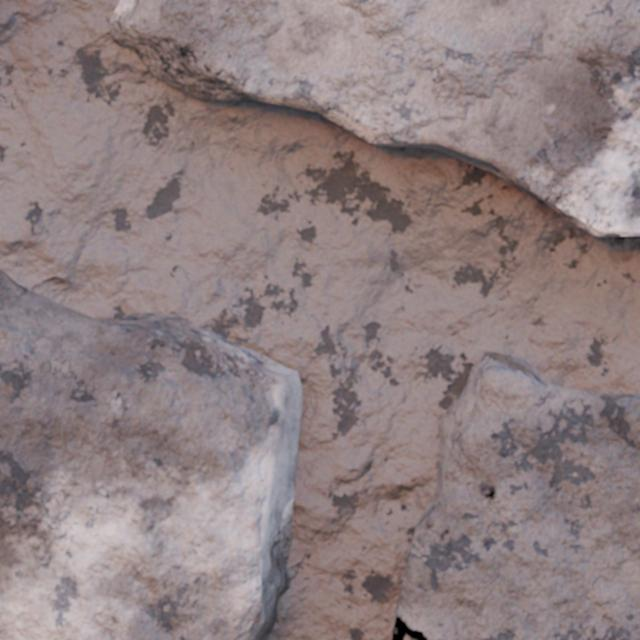crack: (109, 0, 639, 236), (0, 269, 302, 639), (392, 351, 639, 639)
